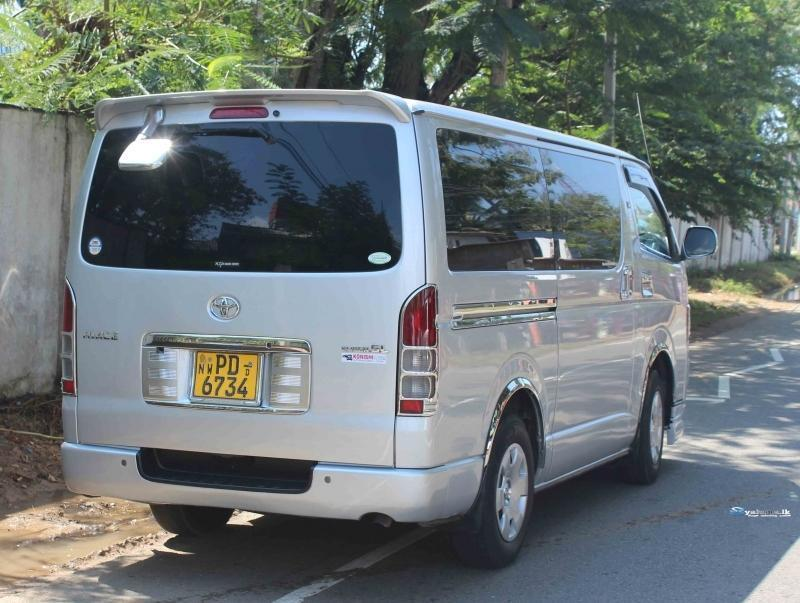license-plate: (195, 351, 255, 397)
